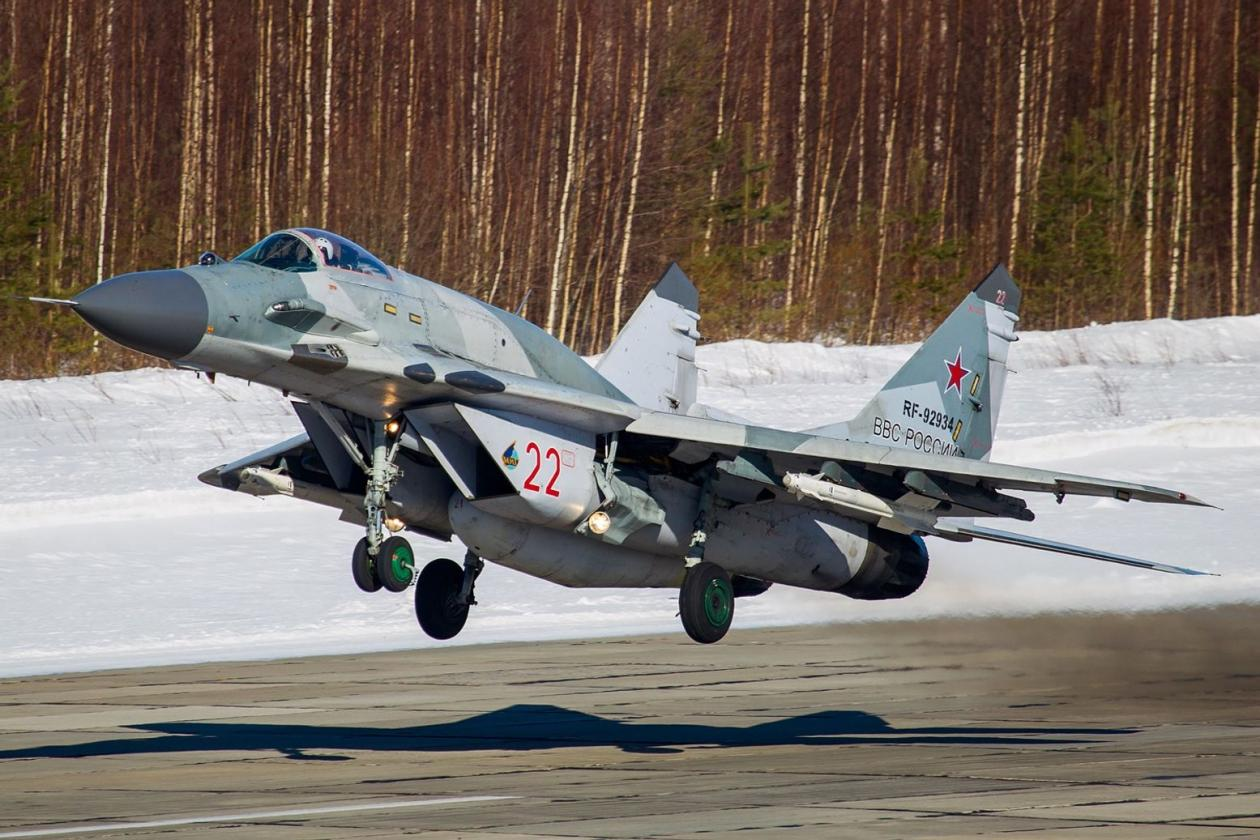Mig-29: (60, 119, 1114, 668)
